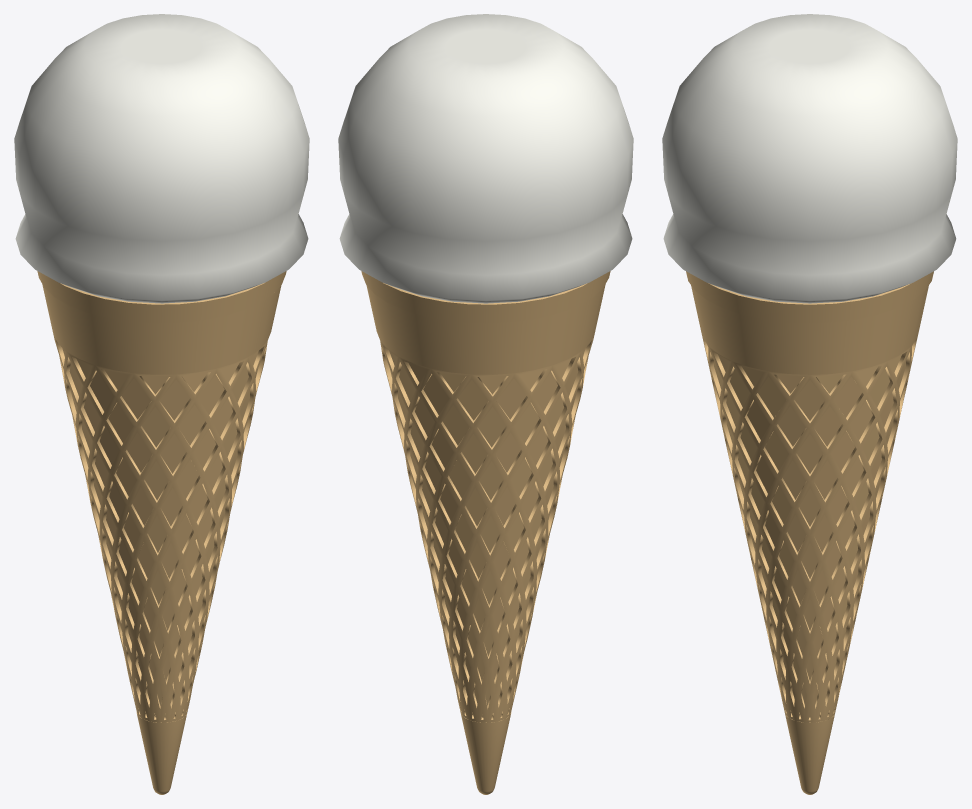
Rendered from トルコアイス.fbx.
3 views of the same model, side by side, from view 1: azimuth 30°, elevation 25°; view 2: azimuth 150°, elevation 25°; view 3: azimuth 270°, elevation 25° (orthographic).
Visible parts, largest first — view 1: トルコアイス; view 2: トルコアイス; view 3: トルコアイス.
Part boxes in pixels (left/top/right/bottom): トルコアイス: left=14, top=14, right=309, bottom=794; トルコアイス: left=338, top=14, right=633, bottom=794; トルコアイス: left=662, top=14, right=957, bottom=794.
Size of the model in its own units: 0.0466 by 0.1302 by 0.0466.
